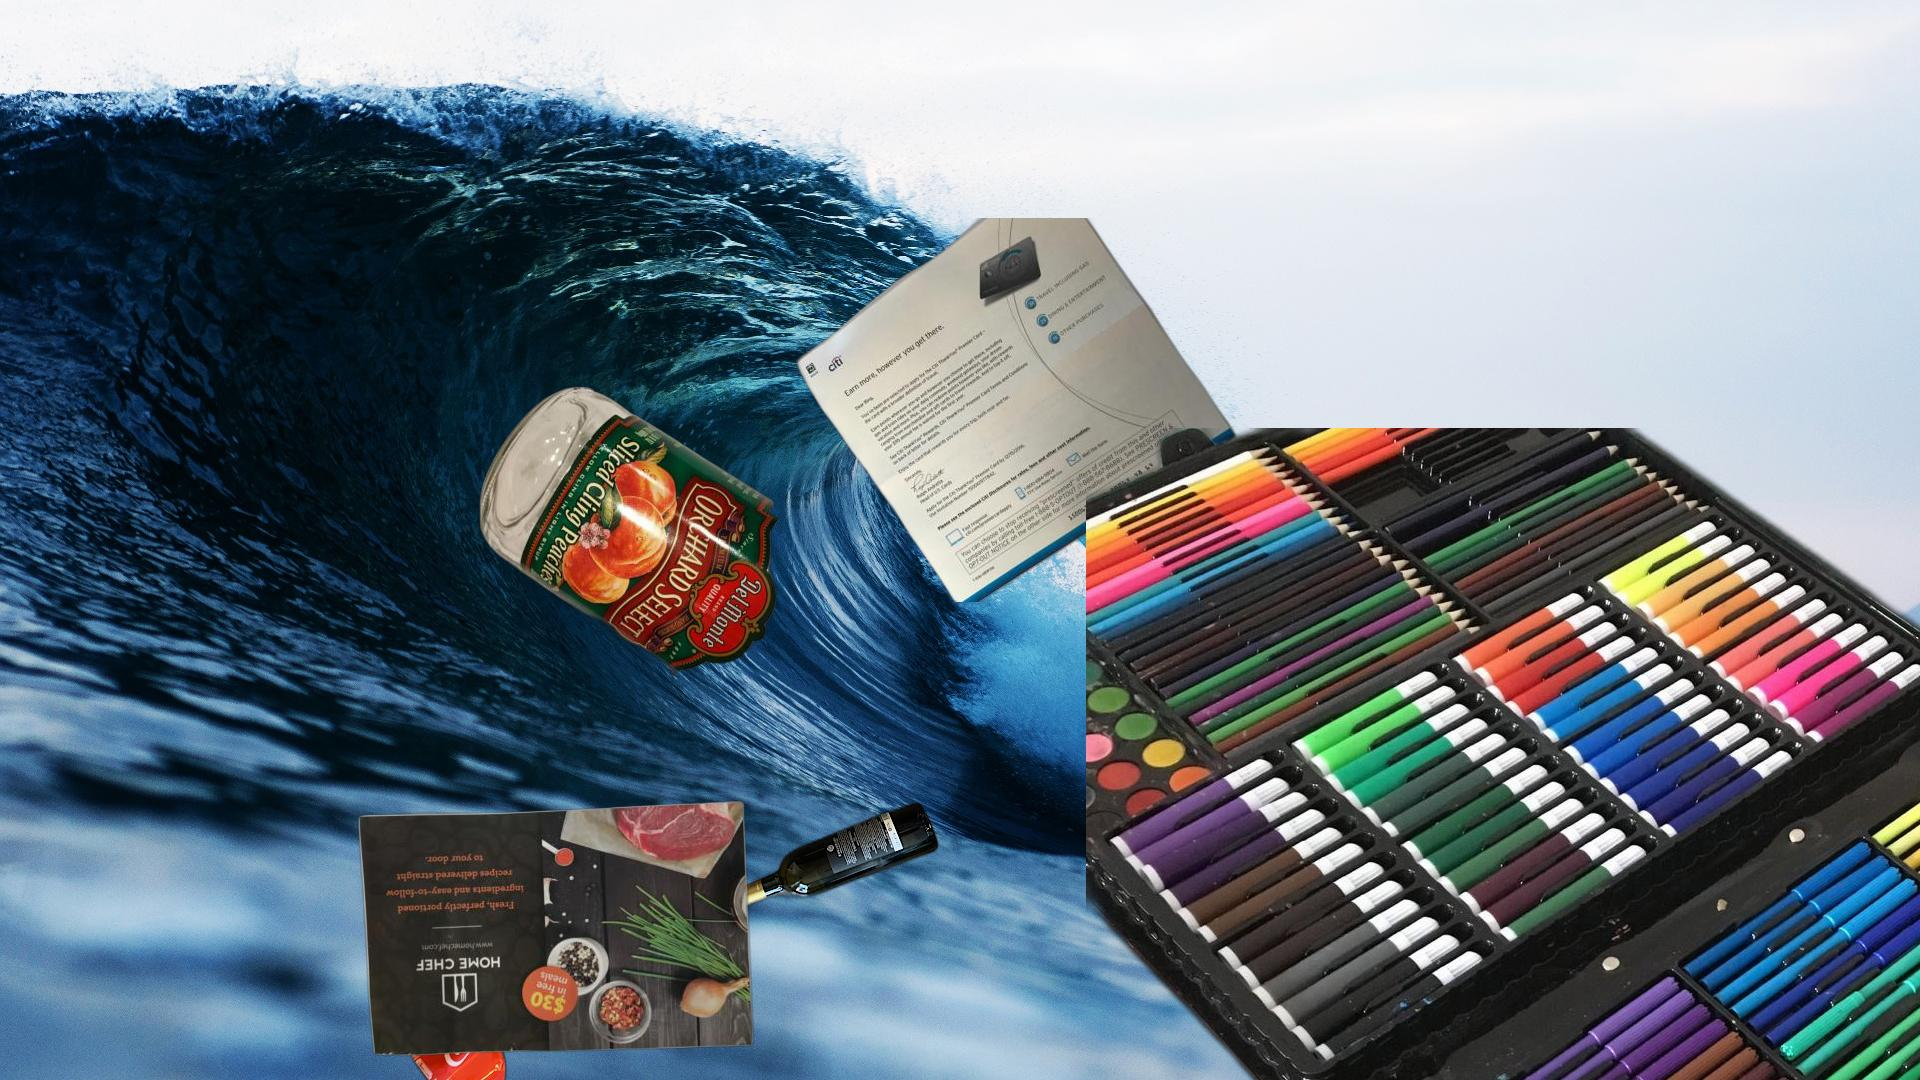glass: (475, 382, 783, 679), (717, 798, 943, 918)
metal-cans: (55, 607, 512, 1080)
paper: (793, 218, 1240, 603), (353, 796, 758, 1059)
penholder: (1087, 429, 1920, 1080)
trash: (1126, 651, 1290, 818)
